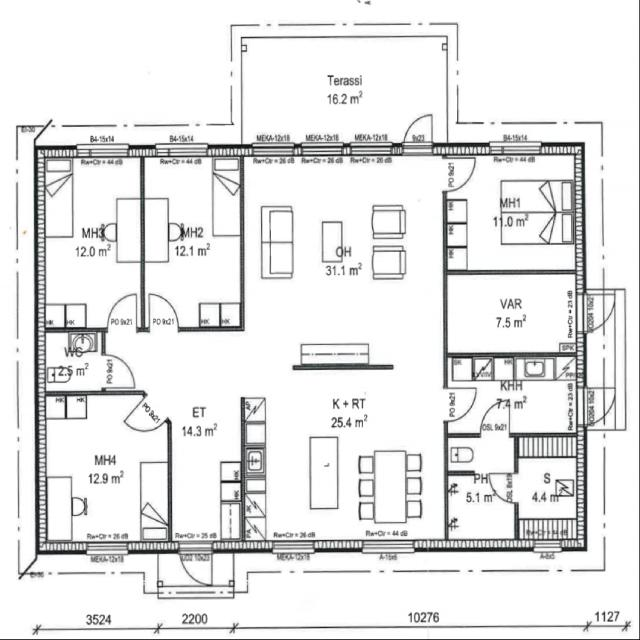door: (449, 356, 578, 436), (102, 286, 140, 394), (447, 432, 516, 476), (176, 541, 216, 589), (439, 150, 482, 194), (578, 286, 617, 334), (97, 350, 140, 393), (578, 382, 616, 428), (105, 288, 142, 334), (124, 394, 164, 436), (400, 108, 437, 152), (146, 288, 181, 330), (444, 384, 479, 424), (477, 400, 515, 436), (486, 470, 520, 506)
window: (356, 538, 418, 562), (267, 538, 317, 563), (345, 140, 397, 164), (74, 142, 132, 163), (81, 538, 131, 562), (152, 141, 210, 161), (486, 139, 544, 159), (296, 140, 348, 161), (529, 536, 566, 556), (543, 562, 574, 576), (599, 509, 609, 546), (456, 564, 486, 576)
zone: (249, 156, 440, 370), (242, 366, 430, 548), (41, 390, 167, 548), (36, 152, 144, 326), (142, 152, 244, 328), (446, 154, 579, 272), (445, 272, 580, 355), (449, 353, 580, 435), (513, 454, 582, 542), (446, 473, 516, 542), (41, 327, 106, 393), (446, 436, 517, 474)
